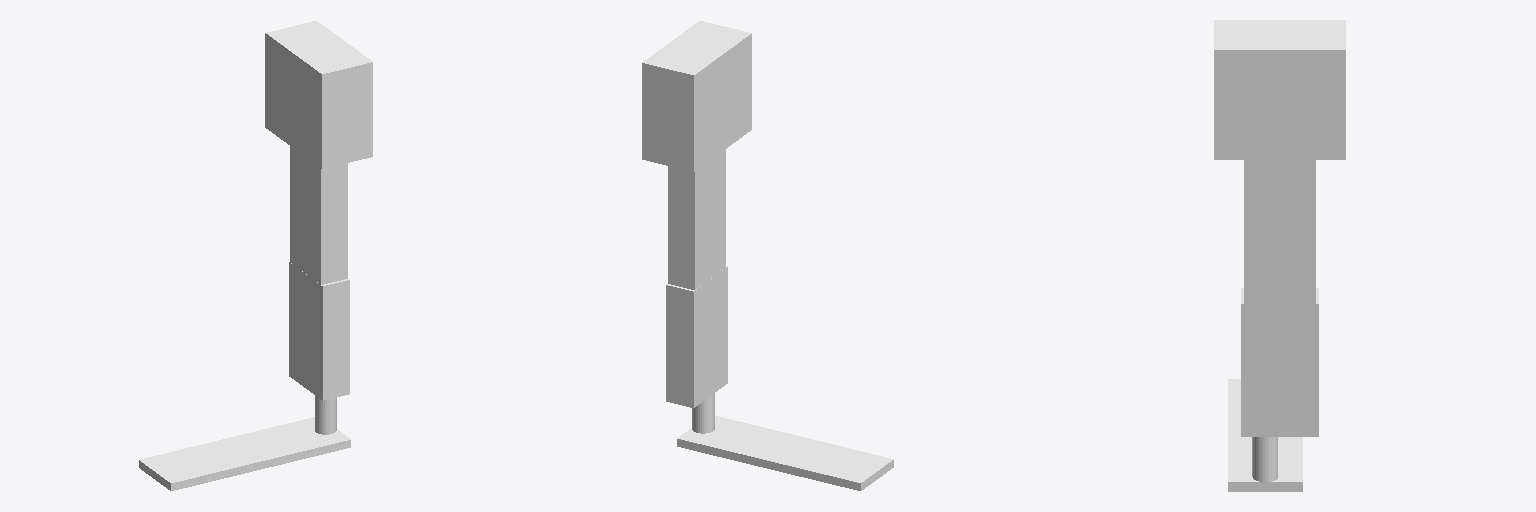
robot.urdf — Arm:
<robot name="Arm">

  <material name="white">
    <color rgba="1 1 1 1"/>
  </material>

  <link name="base_link">
    <visual>
      <geometry>
        <box size="0.23741888 0.07387082 0.01"/>
      </geometry>
      <material name="white"/>
      <origin xyz="0 0 0" rpy="0 0 0" />
    </visual>
    <collision> 
      <geometry>
        <box size="0.23741888 0.07387082 0.01"/>
      </geometry>
    </collision>
     <inertial>
        <mass value="5" />
        <origin xyz="0 0 0" rpy="0 0 0" />
        <inertia ixx="0.004" ixy="0.001" ixz="0" iyy="0.006" iyz="0" izz="0.007" />
    </inertial>
  </link>

  <link name="socket">
    <visual>
      <geometry>
        <cylinder length="0.0508" radius="0.0127"/>
      </geometry>
      <material name="white"/>
    </visual>
    <collision> 
      <geometry>
          <cylinder length="0.0508" radius="0.0127"/>
        </geometry>
    </collision>
    <inertial>
      <mass value="5" />
      <origin xyz="0 0 0" rpy="0 0 0" />
      <inertia ixx="0.004" ixy="0.001" ixz="0" iyy="0.006" iyz="0" izz="0.007" />
    </inertial>
      <!-- <origin xyz="0.10600944 0 0.0303" rpy="0 0 0" /> -->
    
  </link>

  <link name="bicep">
    <visual>
      <geometry>
        <box size="0.03556 0.0766826 0.1439164"/>
      </geometry>
      <material name="white"/>
    <origin xyz="0 0 0.0718082" rpy="0 0 0" />
    </visual>
    <collision> 
      <geometry>
        <box size="0.03556 0.0766826 0.1439164"/>
      </geometry>
    </collision>
    <inertial>
      <mass value="5" />
      <origin xyz="0 0 0" rpy="0 0 0" />
      <inertia ixx="0.004" ixy="0.001" ixz="0" iyy="0.006" iyz="0" izz="0.007" />
    </inertial>
  </link> 

  <link name="forearm">
    <visual>
      <geometry>
        <box size="0.03556 0.0701802 0.1613662"/>
      </geometry>
      <material name="white"/>
      <origin xyz="0 0 0.0806831" rpy="0 0 0" />
    </visual>
    <collision> 
      <geometry>
        <box size="0.03556 0.0701802 0.1613662"/>
      </geometry>
    </collision>
    <inertial>
      <mass value="5" />
      <origin xyz="0 0 0" rpy="0 0 0" />
      <inertia ixx="0.004" ixy="0.001" ixz="0" iyy="0.006" iyz="0" izz="0.007" />
    </inertial>
  </link>

  <link name="end_effector">
    <visual>
      <geometry>
        <box size="0.0673354 0.1293368 0.1192022"/>
      </geometry>
      <material name="white"/>
      <origin xyz="0 0 0.0596011" rpy="0 0 0" />
    </visual>
    <collision> 
      <geometry>
        <box size="0.0673354 0.1293368 0.1192022"/>
      </geometry>
    </collision>
    <inertial>
      <mass value="5" />
      <origin xyz="0 0 0" rpy="0 0 0" />
      <inertia ixx="0.004" ixy="0.001" ixz="0" iyy="0.006" iyz="0" izz="0.007" />
    </inertial>
  </link>

  <joint name="shoulder_yaw" type="continuous">
    <parent link="base_link"/>
    <child link="socket"/>
     <origin xyz="0.10600944 0 0.0303" rpy="0 0 0" />
    <axis xyz="0 0 1" />
  </joint>

  <joint name="shoulder_pitch" type="revolute">
    <parent link="socket"/>
    <child link="bicep"/>
    <limit effort="100.0" lower="-1.0472" upper="1.0472" velocity="20" />
    <origin xyz="0 0.0141986 0.0254" rpy="0 0 0"/> 
    <axis xyz="0 1 0" />
  </joint>


  <joint name="elbow" type="revolute">
    <parent link="bicep"/>
    <child link="forearm"/>
    <limit effort="100.0" lower="-1.76278" upper="1.76278" velocity="20" />
    <origin xyz="0 0 0.1439164" rpy="0 0 0" />
    <axis xyz="0 1 0" />
  </joint>

  <joint name="wrist" type="continuous">
    <parent link="forearm"/>
    <child link="end_effector"/>
    <origin xyz="0 0 0.1613662" rpy="0 0 0" />

    <axis xyz="0 0 1" />
  </joint>
  
</robot>

--- Render facts (derived) ---
3 views of the same robot in one strip: view 1: azimuth 30°, elevation 25°; view 2: azimuth 150°, elevation 25°; view 3: azimuth 270°, elevation 25° (orthographic).
Model Arm with 5 links and 4 joints (2 revolute, 2 continuous), rooted at base_link, posed every joint at zero.
Links seen in each view (by area): view 1: end_effector, base_link, bicep, forearm, socket; view 2: end_effector, base_link, bicep, forearm, socket; view 3: end_effector, bicep, forearm, base_link, socket.
Link boxes in pixels (x1,y1,x2,y2): end_effector: (265, 21, 372, 168); base_link: (139, 417, 350, 490); bicep: (289, 262, 349, 400); forearm: (290, 146, 347, 284); socket: (315, 396, 336, 434); end_effector: (642, 21, 751, 171); base_link: (677, 416, 893, 490); bicep: (666, 266, 727, 407); forearm: (668, 149, 725, 289); socket: (692, 393, 714, 433); end_effector: (1214, 20, 1345, 159); bicep: (1241, 288, 1318, 436); forearm: (1244, 160, 1315, 303); base_link: (1228, 379, 1302, 491); socket: (1252, 437, 1277, 481).
Bounding box of the posed robot: 0.2584 × 0.1293 × 0.4852 m (x, y, z).
Geometry: primitives only (box / cylinder / sphere), no mesh files.